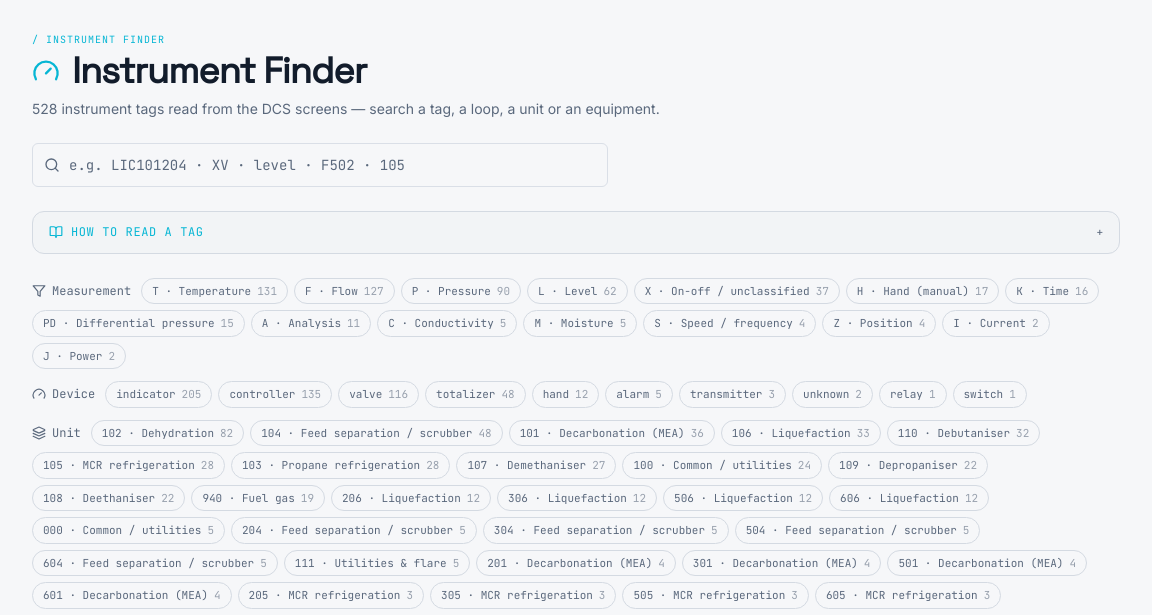
Test: Instrument Finder › teaches the tag convention rather than leaving people to guess
The image size is (1152, 615).
Click the button "How to read a tag +".
click(137, 232)  # box [33, 212, 1119, 252]
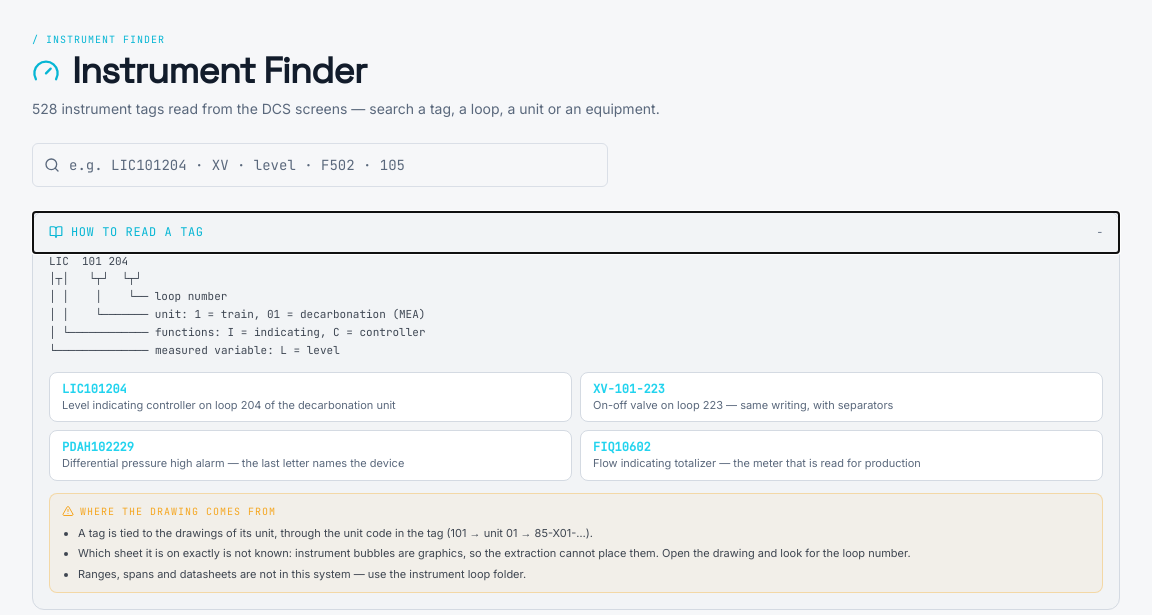
Check: the element with test id "tag-anatomy" shows "loop number", box [49, 254, 426, 357]
Check: the element with test id "tag-anatomy" shows "measured variable: L = level", box [49, 254, 426, 357]
Check: the element with test id "tag-anatomy" shows "XV-101-223", box [593, 381, 665, 397]
